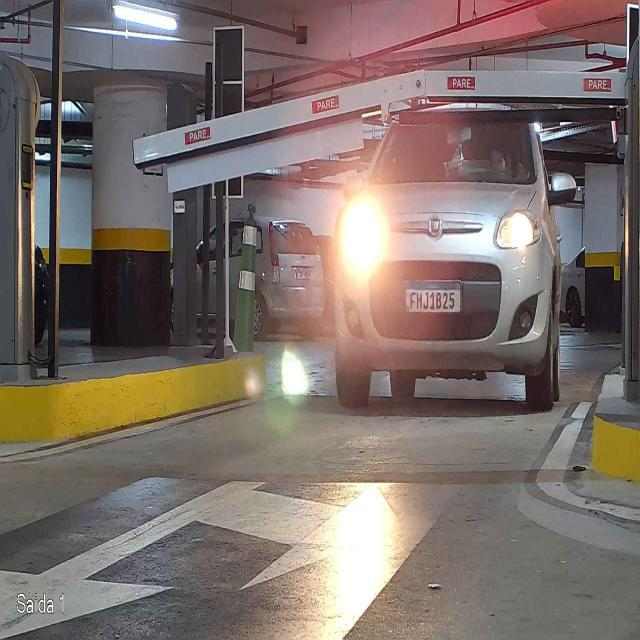mercosul_plate: (402, 279, 464, 315)
